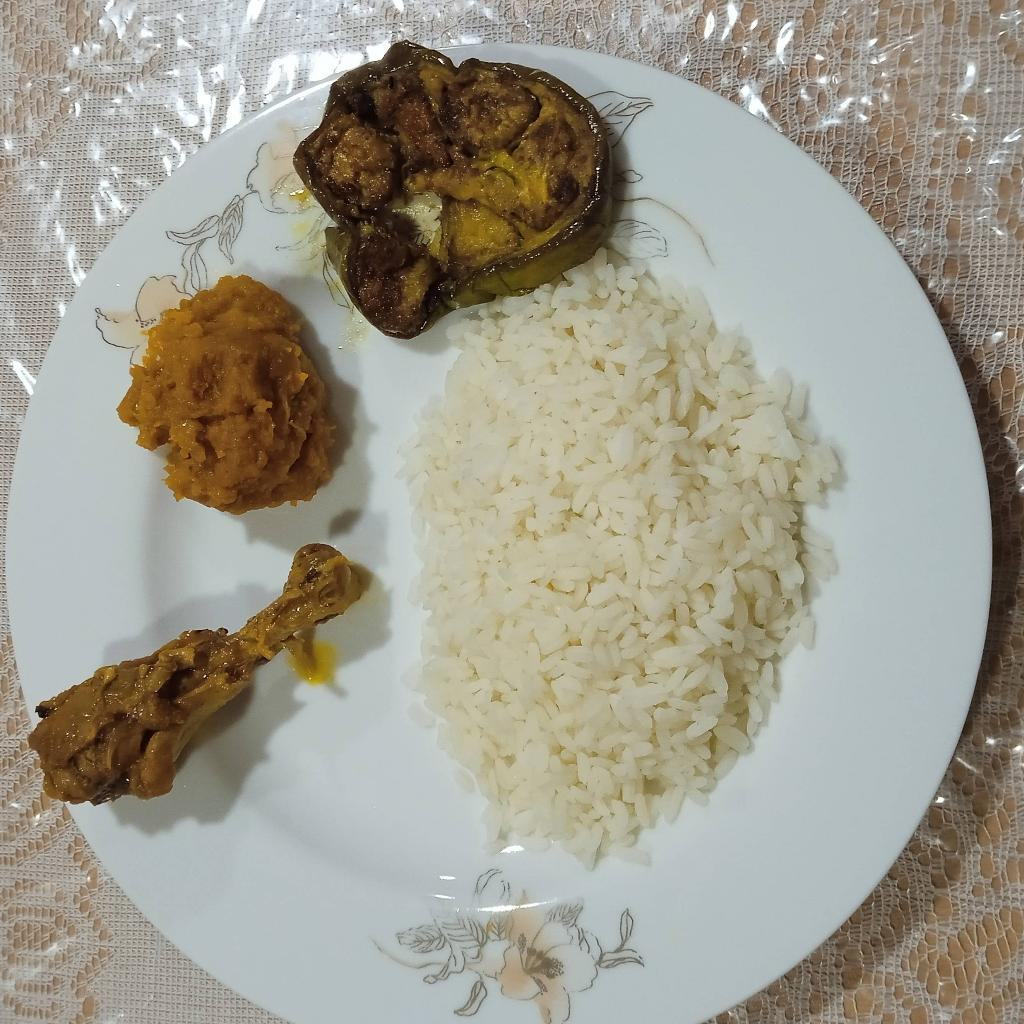begun-vaji: (293, 43, 612, 335)
chicken: (33, 539, 356, 802)
kumra-vaji: (123, 265, 338, 516)
rice: (401, 263, 837, 864)
